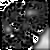node: (34, 27, 50, 50), (25, 9, 38, 17), (4, 25, 12, 33)
